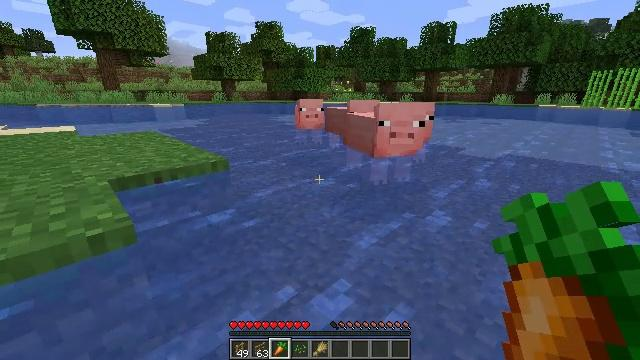pig: (347, 103, 435, 185), (325, 100, 381, 146), (295, 98, 324, 146)
